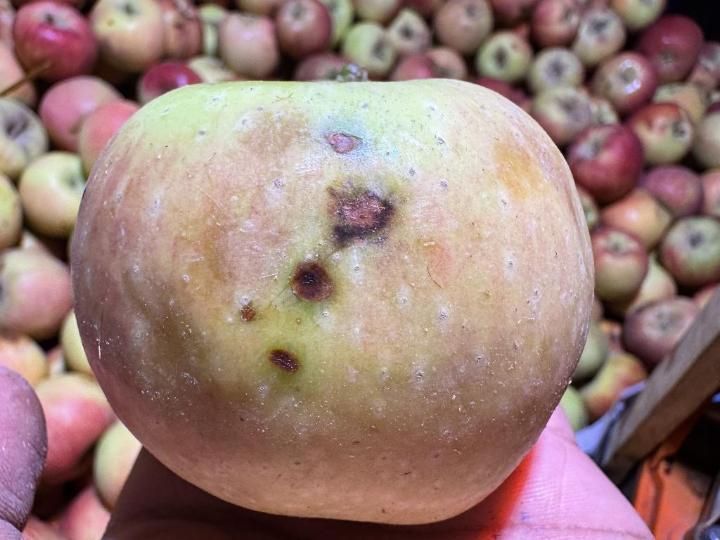apple: (72, 79, 594, 524)
surface_damage: (233, 129, 404, 377)
